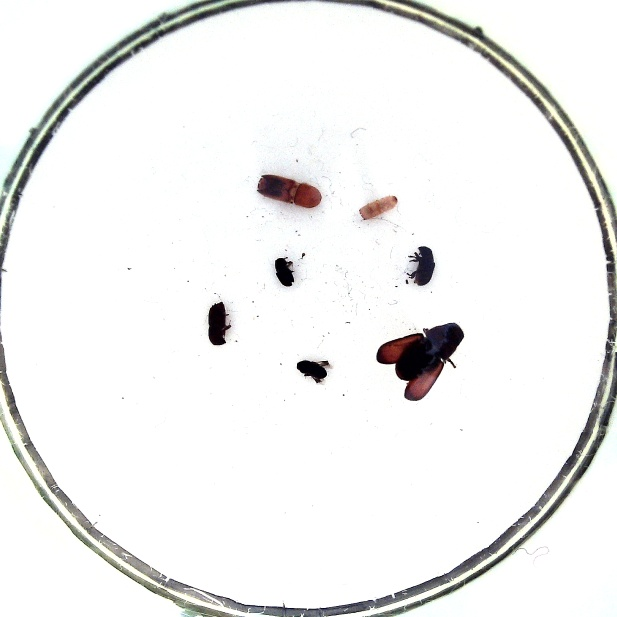acuminatus: (296, 360, 326, 380)
armandi: (414, 246, 435, 286)
boerner: (256, 174, 322, 208)
coleoptera: (275, 258, 294, 287)
leconte: (395, 322, 464, 381)
linnaeus: (358, 196, 398, 219), (208, 301, 226, 346)
